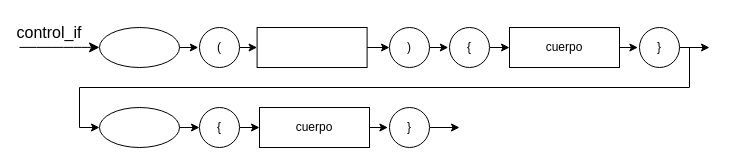
This 735x165 diagram has some shape labels left out. Each missing label, with the centre of its shape:
"ELSE" belongs at point 139,127.
"expresion" belongs at point 311,47.
"IF" belongs at point 139,47.
